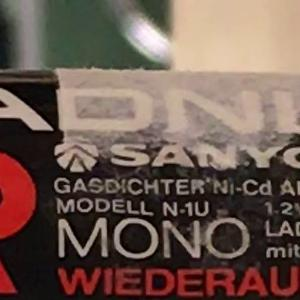keyword: (198, 171, 280, 198)
